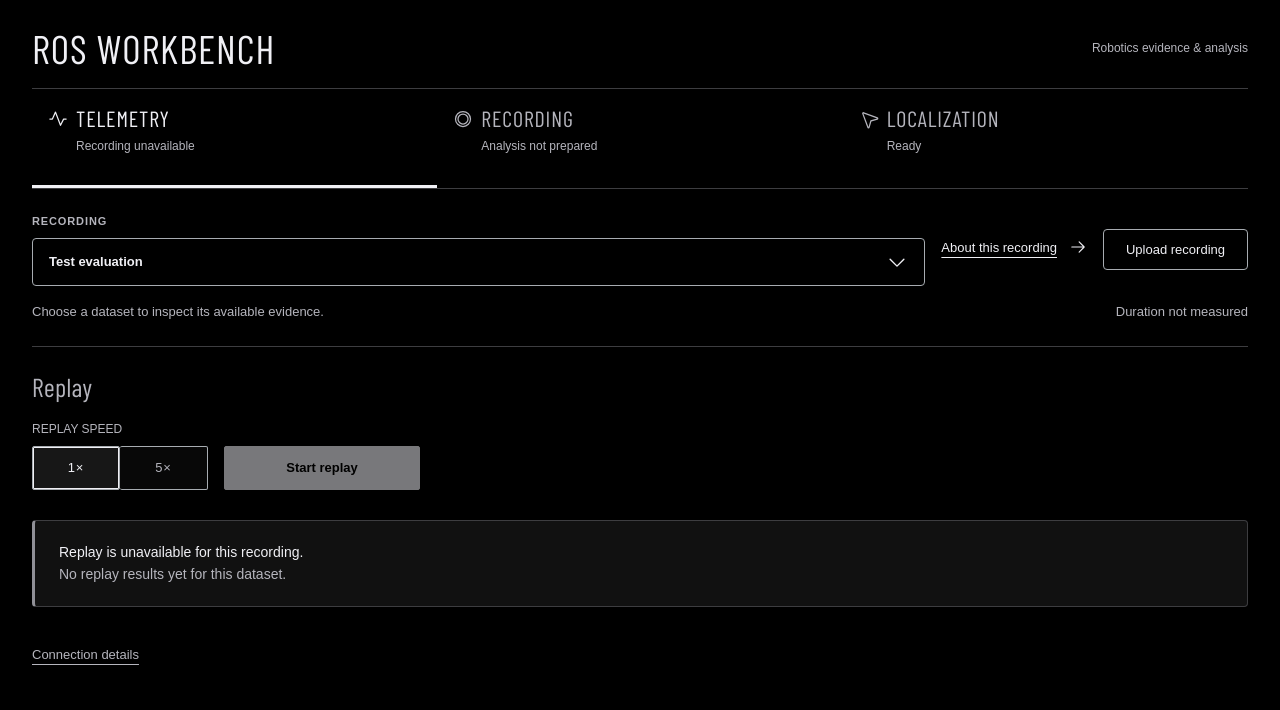
Test: ROS Workbench › renders localization metrics with optional heading signal: false
Click the tab "Localization Ready". click: click(943, 118)
box: [843,89,1248,188]
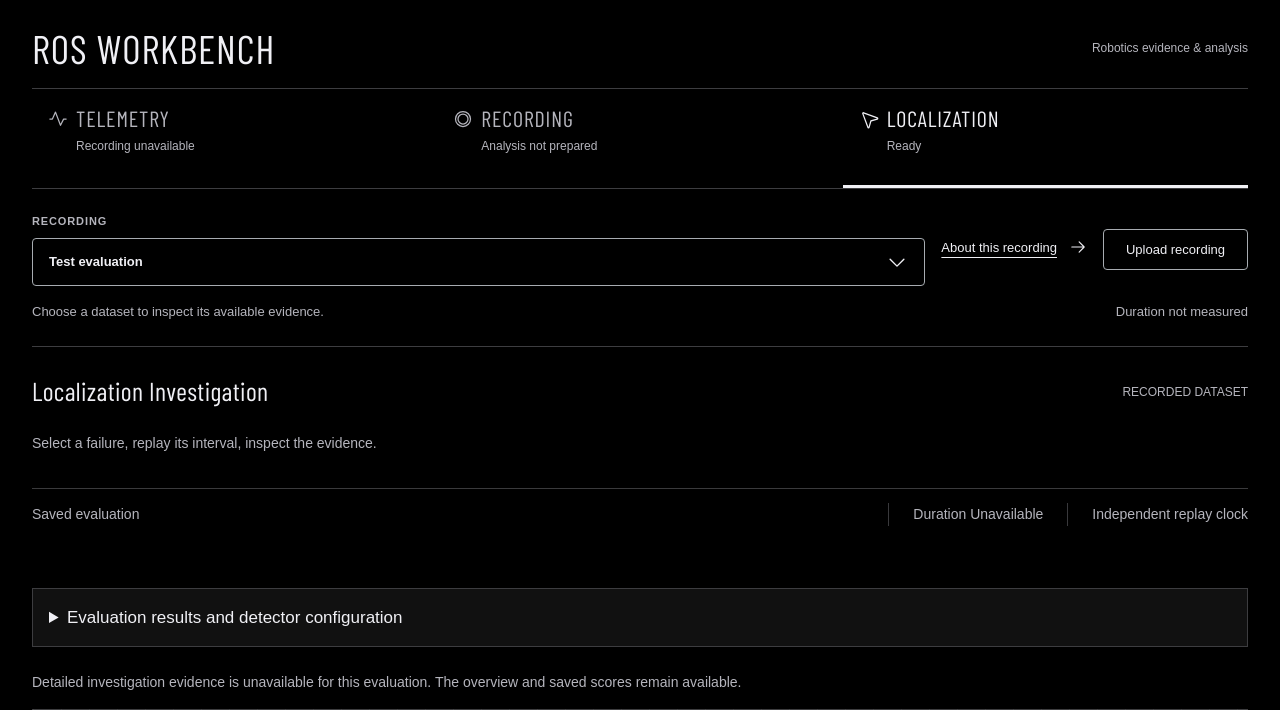
Now the text "Detailed investigation evidence is unavailable" is shown, box [32,674,742,690]
